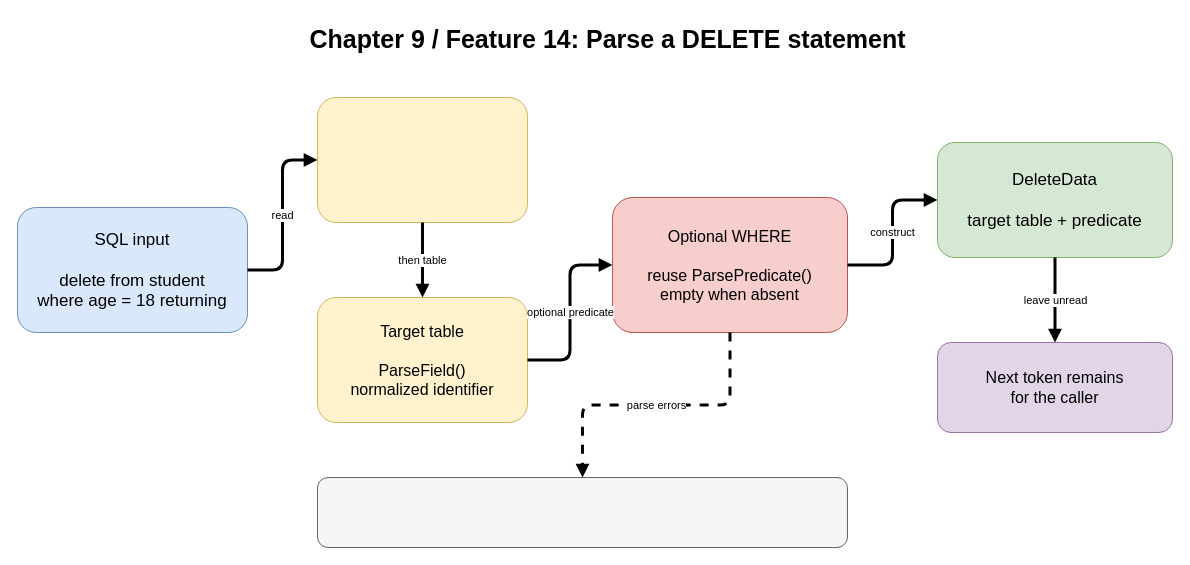
Some shapes in this 1190 by 565 pixel diagram are drawn without their labels. The centre of each missing label's shape, as x and y in pixels:
Missing keyword, table, or predicate contextual byte-positioned error: (x=582, y=512)
Required keywords delete from: (x=422, y=159)
